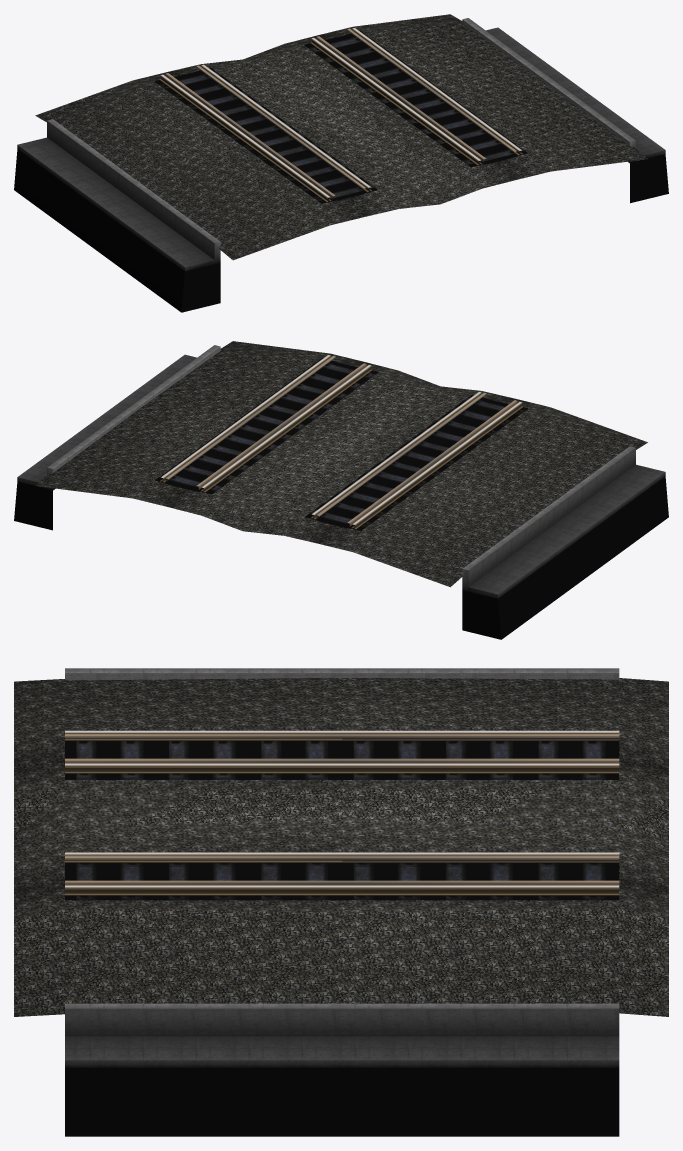
The model's file is TOB_2RAIL_25.glb.
3 renders of one model, top to bottom at view 1: azimuth 30°, elevation 25°; view 2: azimuth 150°, elevation 25°; view 3: azimuth 270°, elevation 25°, orthographic. The views are drawn at different scales.
Visible parts, largest first — view 1: LeftWall2, R000_RG_R2, R000_RG_L2; view 2: LeftWall2, R000_RG_R2, R000_RG_L2; view 3: LeftWall2, R000_RG_L2, R000_RG_R2.
Boxes of the visible parts, x1=… form: LeftWall2: x1=14, y1=14, x2=668, y2=312; R000_RG_R2: x1=165, y1=36, x2=486, y2=199; R000_RG_L2: x1=196, y1=28, x2=516, y2=189; LeftWall2: x1=14, y1=341, x2=668, y2=639; R000_RG_R2: x1=196, y1=363, x2=517, y2=526; R000_RG_L2: x1=165, y1=356, x2=486, y2=518; LeftWall2: x1=14, y1=668, x2=668, y2=1136; R000_RG_L2: x1=65, y1=758, x2=619, y2=885; R000_RG_R2: x1=65, y1=734, x2=619, y2=861.
Size of the model in its own units: 42 by 6.55 by 29.53.
Materials: 7 (6 with a texture image).
